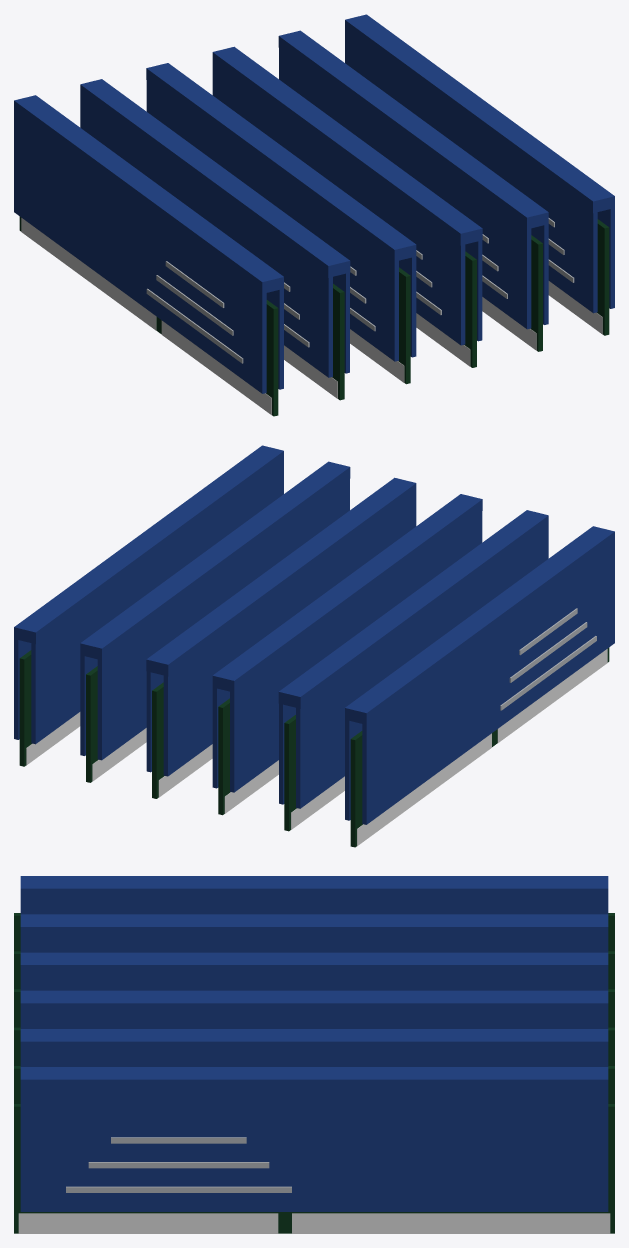
File: hw_ram_ddr4_96gb.glb
The picture shows the model from 3 angles, top to bottom: view 1: azimuth 30°, elevation 25°; view 2: azimuth 150°, elevation 25°; view 3: azimuth 270°, elevation 25°; orthographic projection. The views are drawn at different scales.
Visible parts, largest first — view 1: Stick_1, Stick_3, Stick_4, Body, Stick_5, Stick_2; view 2: Stick_1, Stick_3, Stick_4, Body, Stick_5, Stick_2; view 3: Body, Stick_1, Stick_2, Stick_3, Stick_4, Stick_5.
Boxes of the visible parts, <box> form: Stick_1: <box>14,95,283,416</box>; Stick_3: <box>146,63,416,384</box>; Stick_4: <box>212,46,482,367</box>; Body: <box>345,14,614,335</box>; Stick_5: <box>278,30,548,351</box>; Stick_2: <box>80,79,350,400</box>; Stick_1: <box>345,526,614,847</box>; Stick_3: <box>212,494,482,815</box>; Stick_4: <box>146,477,416,798</box>; Body: <box>14,445,283,766</box>; Stick_5: <box>80,461,350,782</box>; Stick_2: <box>278,510,548,831</box>; Body: <box>14,1067,614,1233</box>; Stick_1: <box>14,876,614,951</box>; Stick_2: <box>14,914,614,989</box>; Stick_3: <box>14,952,614,1027</box>; Stick_4: <box>14,990,614,1065</box>; Stick_5: <box>14,1029,614,1103</box>.
Bounding box in the file's own units: 0.1072 × 0.0388 × 0.133.
